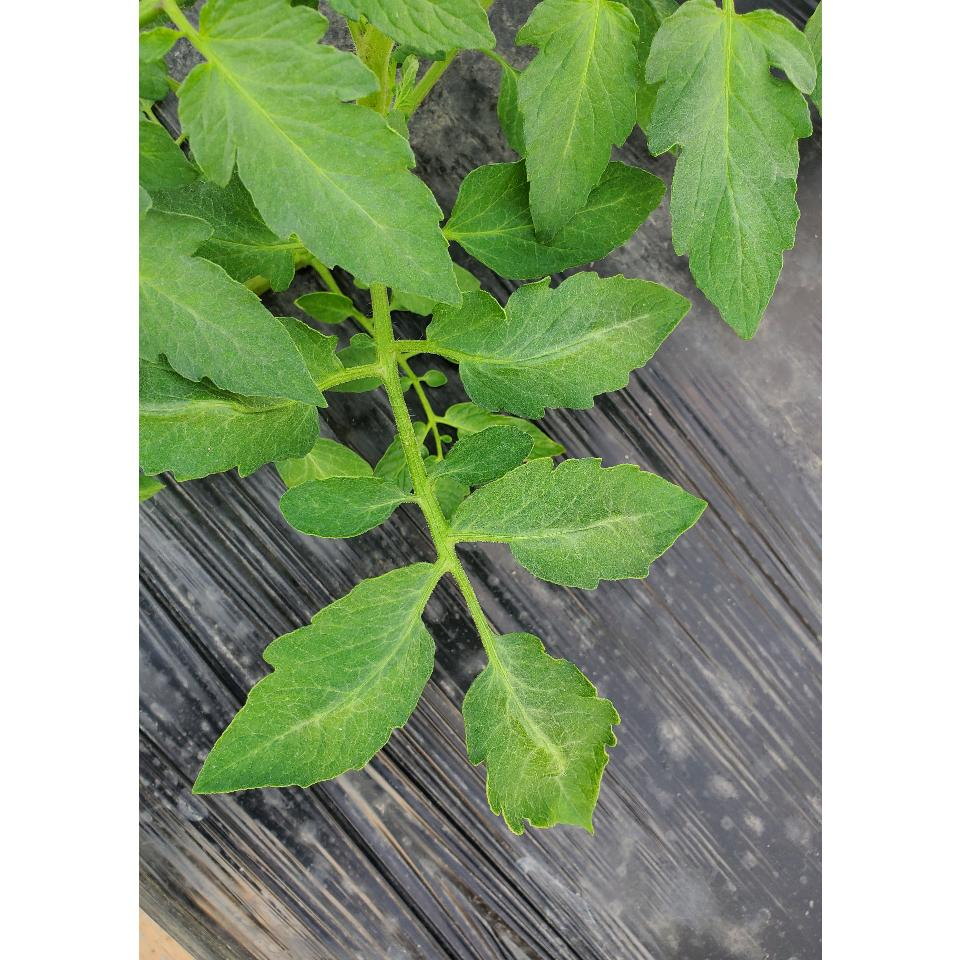tomato_yellow_leaf_curl_virus: (172, 51, 467, 318), (186, 556, 438, 802), (424, 268, 696, 412), (466, 636, 625, 848), (462, 470, 716, 584)
